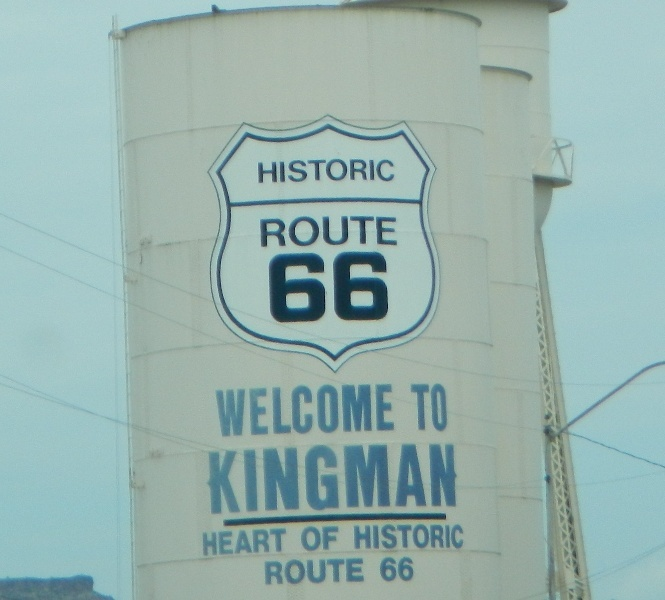text: (273, 249, 288, 324), (289, 249, 304, 324), (305, 249, 320, 324), (321, 249, 336, 324), (337, 249, 352, 324), (353, 249, 368, 324), (369, 249, 384, 324), (209, 442, 224, 516), (225, 442, 240, 516), (241, 442, 256, 516), (257, 442, 272, 516), (273, 442, 288, 516), (289, 442, 304, 516), (305, 442, 320, 516), (321, 442, 336, 516), (337, 442, 352, 516), (353, 442, 368, 516), (369, 442, 384, 516), (385, 442, 400, 516), (401, 442, 416, 516), (417, 442, 432, 516), (433, 442, 448, 516), (225, 380, 240, 438), (241, 380, 256, 438), (257, 380, 272, 438), (273, 380, 288, 438), (289, 380, 304, 438), (305, 380, 320, 438), (321, 380, 336, 438), (337, 380, 352, 438), (353, 380, 368, 438), (369, 380, 384, 438), (449, 442, 460, 516), (433, 383, 449, 432), (211, 380, 224, 438), (417, 383, 432, 432), (385, 380, 397, 438), (273, 214, 288, 249), (289, 214, 304, 249), (305, 214, 320, 249), (321, 214, 336, 249), (337, 214, 352, 249), (353, 214, 368, 249), (369, 214, 384, 249), (273, 526, 289, 557), (385, 214, 399, 249), (209, 526, 224, 557), (225, 526, 240, 557), (241, 526, 256, 557), (257, 526, 272, 557), (305, 524, 320, 553), (321, 524, 336, 553), (273, 557, 288, 586), (289, 557, 304, 586), (305, 557, 320, 586), (321, 557, 336, 586), (337, 557, 352, 586), (257, 157, 272, 185), (273, 157, 288, 185), (289, 157, 304, 185), (305, 157, 320, 185), (321, 157, 336, 185), (337, 157, 352, 185), (353, 157, 368, 185), (369, 157, 384, 185), (260, 214, 272, 249), (369, 524, 384, 551), (385, 524, 400, 551), (401, 524, 416, 551), (417, 524, 432, 551), (433, 524, 448, 551), (449, 524, 464, 551), (385, 556, 400, 582), (354, 524, 368, 551), (267, 249, 272, 324), (385, 249, 390, 324), (401, 556, 415, 582), (353, 557, 365, 586), (385, 157, 397, 185), (410, 383, 416, 432), (263, 557, 272, 586), (201, 526, 208, 557), (206, 442, 208, 516), (379, 556, 384, 582), (300, 524, 304, 553), (337, 524, 339, 553), (465, 524, 466, 551)
